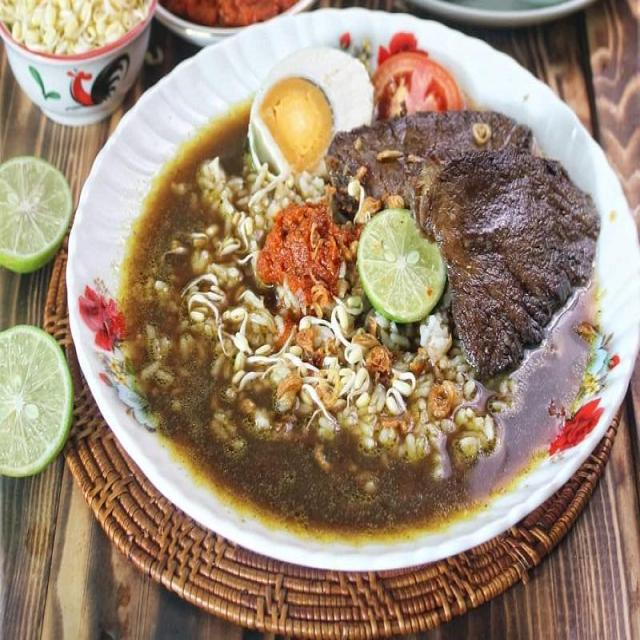Rawon: (141, 101, 573, 516)
